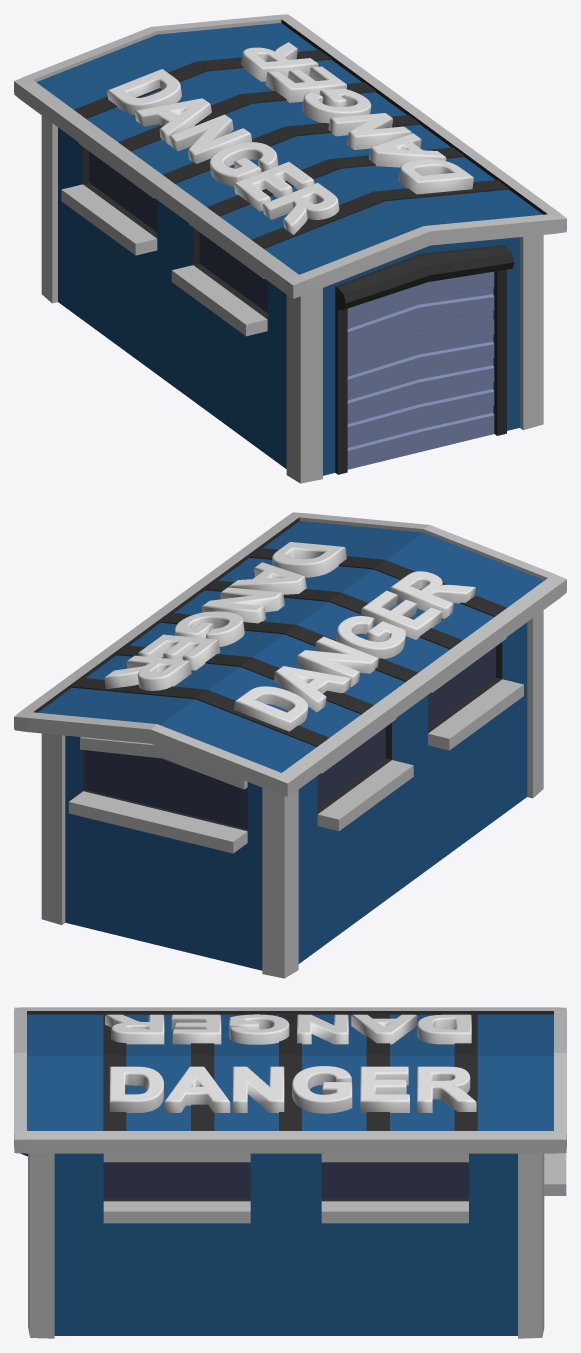
File: Garage.fbx
The picture shows the model from 3 angles, top to bottom: view 1: azimuth 30°, elevation 25°; view 2: azimuth 150°, elevation 25°; view 3: azimuth 270°, elevation 25°; orthographic projection.
Visible parts, largest first — view 1: Garage_Roof, Garage_Side_Right, Garage_Door, Garage_Danger, Garage_Front, Garage_Side_Left; view 2: Garage_Roof, Garage_Side_Right, Garage_Back, Garage_Danger, Garage_Side_Left; view 3: Garage_Side_Left, Garage_Roof, Garage_Danger, Garage_Back.
Boxes of the visible parts, x1,y1,x2,y2 form: Garage_Roof: [14, 14, 566, 298]; Garage_Side_Right: [41, 115, 322, 483]; Garage_Door: [347, 271, 494, 469]; Garage_Danger: [107, 42, 473, 234]; Garage_Front: [323, 237, 519, 475]; Garage_Side_Left: [520, 235, 543, 430]; Garage_Roof: [14, 512, 566, 796]; Garage_Side_Right: [262, 610, 543, 978]; Garage_Back: [65, 735, 262, 970]; Garage_Danger: [104, 542, 475, 731]; Garage_Side_Left: [41, 733, 65, 924]; Garage_Side_Left: [28, 1153, 544, 1338]; Garage_Roof: [14, 1007, 566, 1153]; Garage_Danger: [105, 1014, 476, 1113]; Garage_Back: [544, 1153, 566, 1195].
Size of the model in its own units: 380 by 663 by 305.
